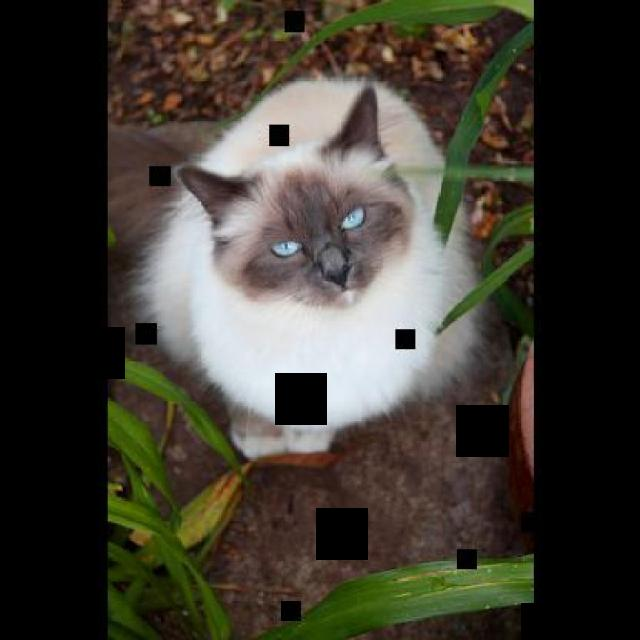unauthorized: (108, 72, 506, 462)
